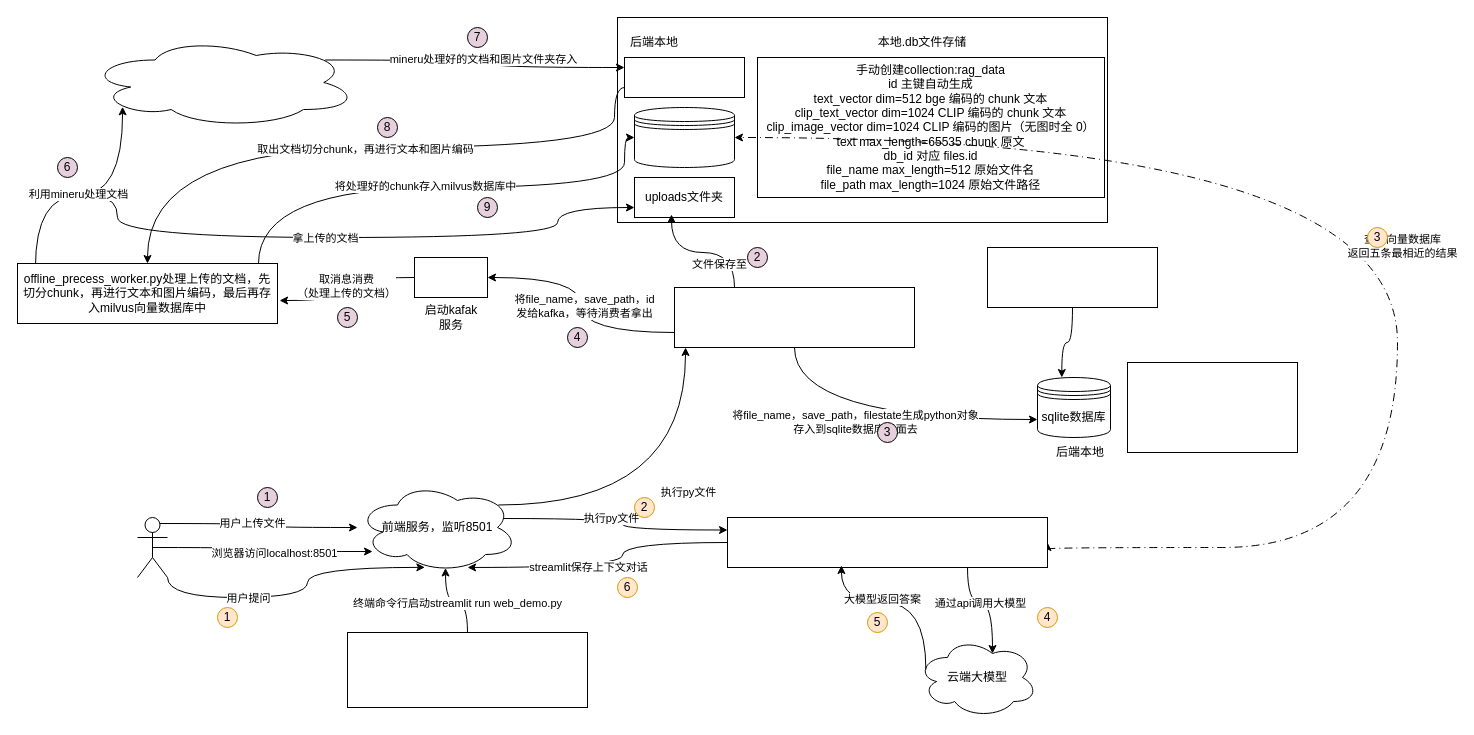
Image size: 1474x735. Some labels were removed from this diagram. Each missing label, with the box of its shape:
Actor: (136, 516, 168, 578)
files表结构： id：自增主键，唯一标识 filename：上传文件的名字 filepath：文件上传到什么位置 filestate：文件的状态(无用): (1126, 362, 1298, 452)
kafka: (414, 256, 488, 298)
milvus数据库: (634, 106, 734, 168)
mineru-vllm-server服务，监听30000: (86, 36, 358, 128)
orm_model.py定义表files，并创建存入数据库中去。建立与数据库的连接会话，供别人使用。建表需要运行这个py脚本: (986, 246, 1158, 308)
processed文件夹: (624, 56, 744, 98)
web_demo.py利用streamlit展示两个页面web_page_upload.py(文件管理)，web_page_chat.py（图文对话）: (346, 632, 588, 708)
web_page_chat.py接收用户提问。先对其进行bge编码: (726, 516, 1048, 568)
web_page_upload.py展示已上传的文件列表（可删除）+接收新上传的文件保存到本地: (674, 286, 914, 348)
